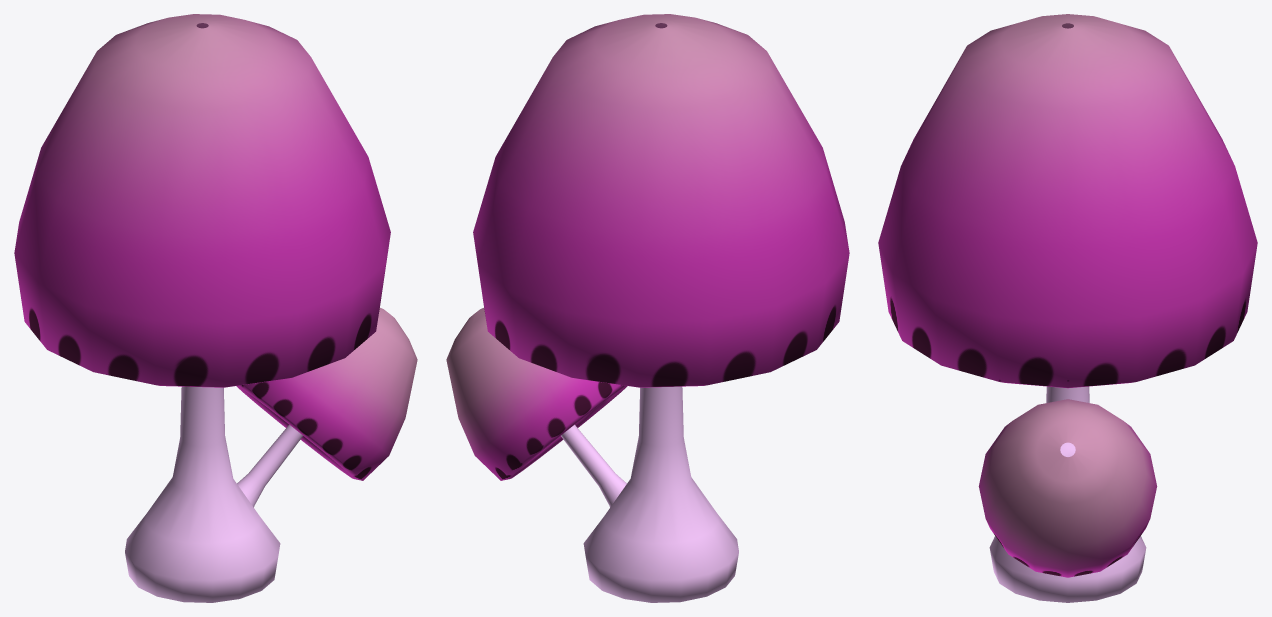
File: Mushroom_2.fbx
The picture shows the model from 3 angles, left to right: view 1: azimuth 30°, elevation 25°; view 2: azimuth 150°, elevation 25°; view 3: azimuth 270°, elevation 25°; orthographic projection.
Visible parts, largest first — view 1: Plane.002; view 2: Plane.002; view 3: Plane.002.
Boxes of the visible parts, left/top/right/bottom form: Plane.002: left=14, top=14, right=417, bottom=602; Plane.002: left=446, top=14, right=849, bottom=602; Plane.002: left=878, top=14, right=1257, bottom=602.
Size of the model in its own units: 46.04 by 65.3 by 40.89.
1 material, 1 textured.
